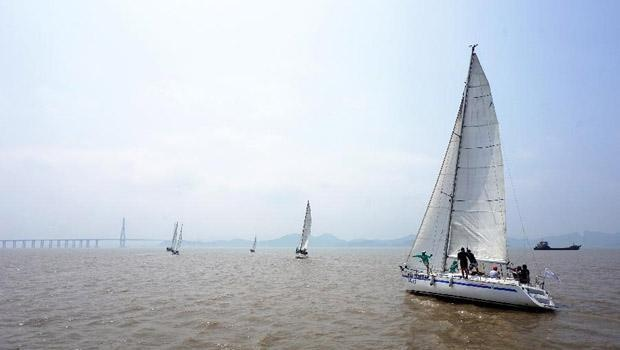fanchuan: (394, 41, 569, 313), (292, 201, 318, 262), (163, 221, 180, 251), (171, 225, 185, 256), (247, 235, 259, 256)
